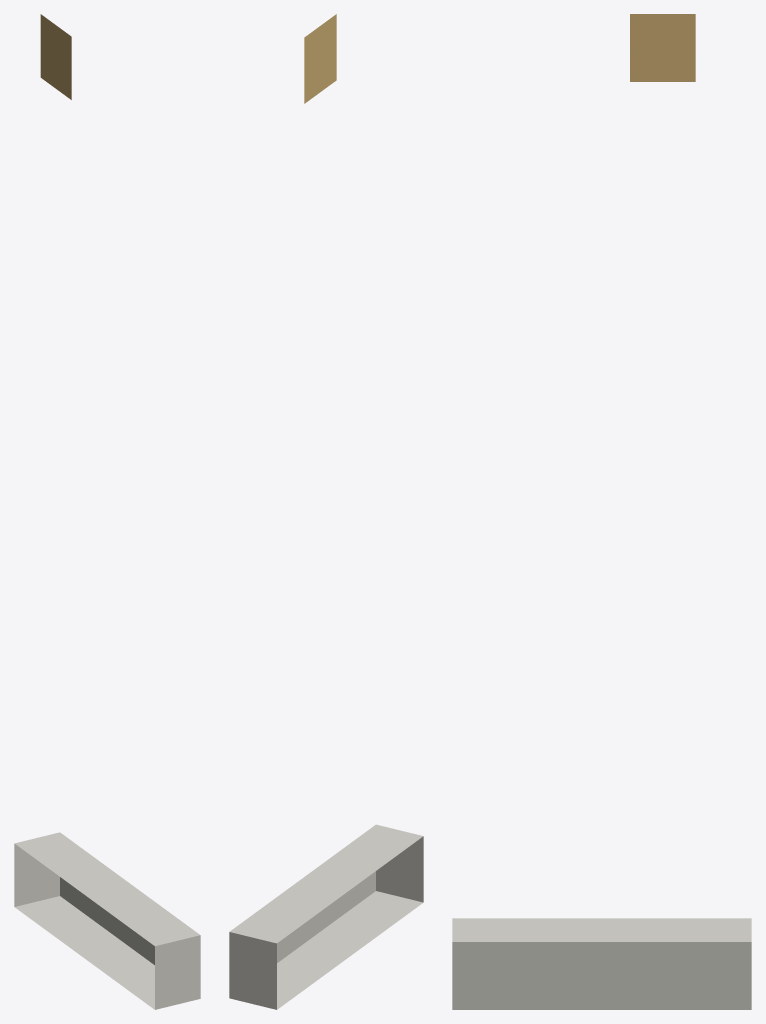
File: lunar-1-0.glb
3 views of the same model, side by side, from view 1: azimuth 30°, elevation 25°; view 2: azimuth 150°, elevation 25°; view 3: azimuth 270°, elevation 25° (orthographic). The views are drawn at different scales.
Visible parts, largest first — view 1: lunar-1-0; view 2: lunar-1-0; view 3: lunar-1-0.
Part boxes in pixels (bbox=[...]): lunar-1-0: bbox=[14, 14, 200, 1009]; lunar-1-0: bbox=[229, 14, 423, 1009]; lunar-1-0: bbox=[452, 14, 751, 1009].
Bounding box in the file's own units: 0.6 × 11.46 × 3.2.
